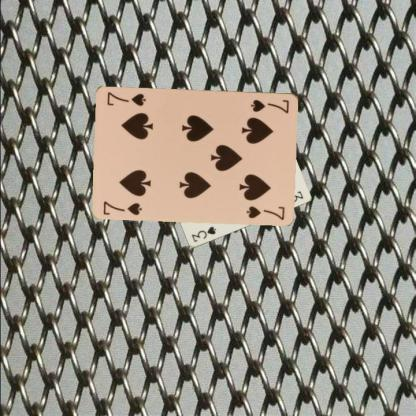3s: (189, 224, 217, 243)
7s: (101, 198, 144, 216), (248, 96, 290, 114)
